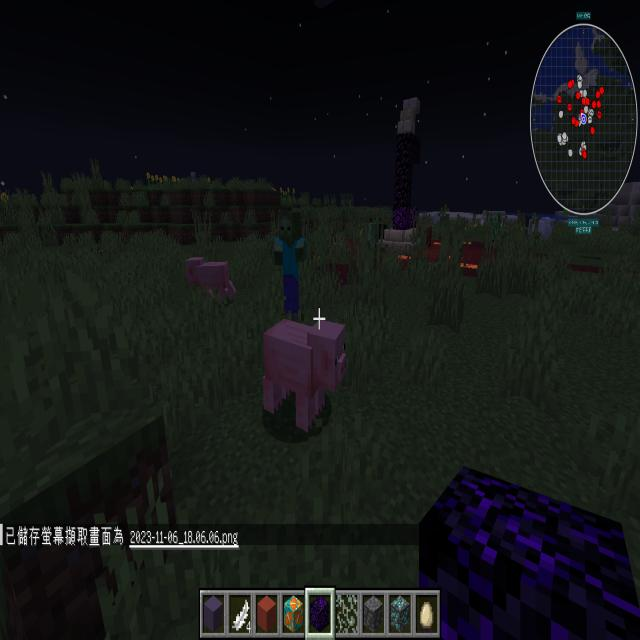Creeper: (490, 210, 503, 247), (470, 210, 478, 232)
Skeleton: (188, 169, 198, 189)
Zombie: (272, 208, 308, 326)
pig: (252, 311, 352, 440), (179, 253, 239, 313)
